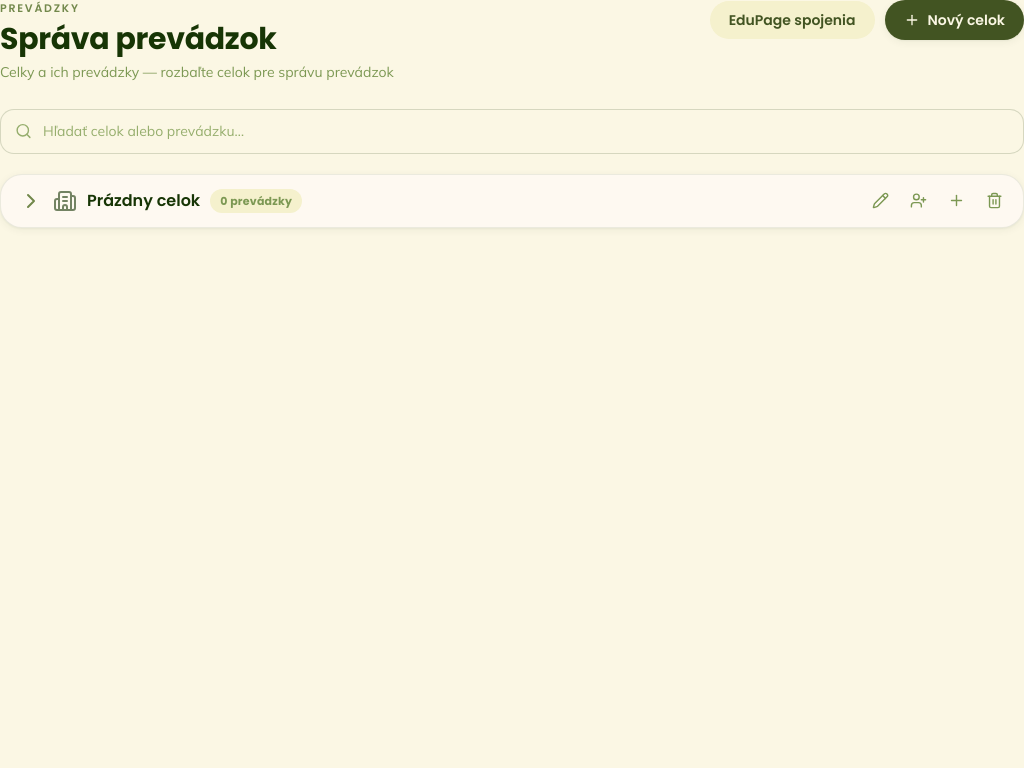
Test: FacilityManager celok delete › deletes a celok without prevádzky after confirmation
Click the button named "Vymazať celok Prázdny celok" at (994, 201), box left=977, top=184, right=1011, bottom=218
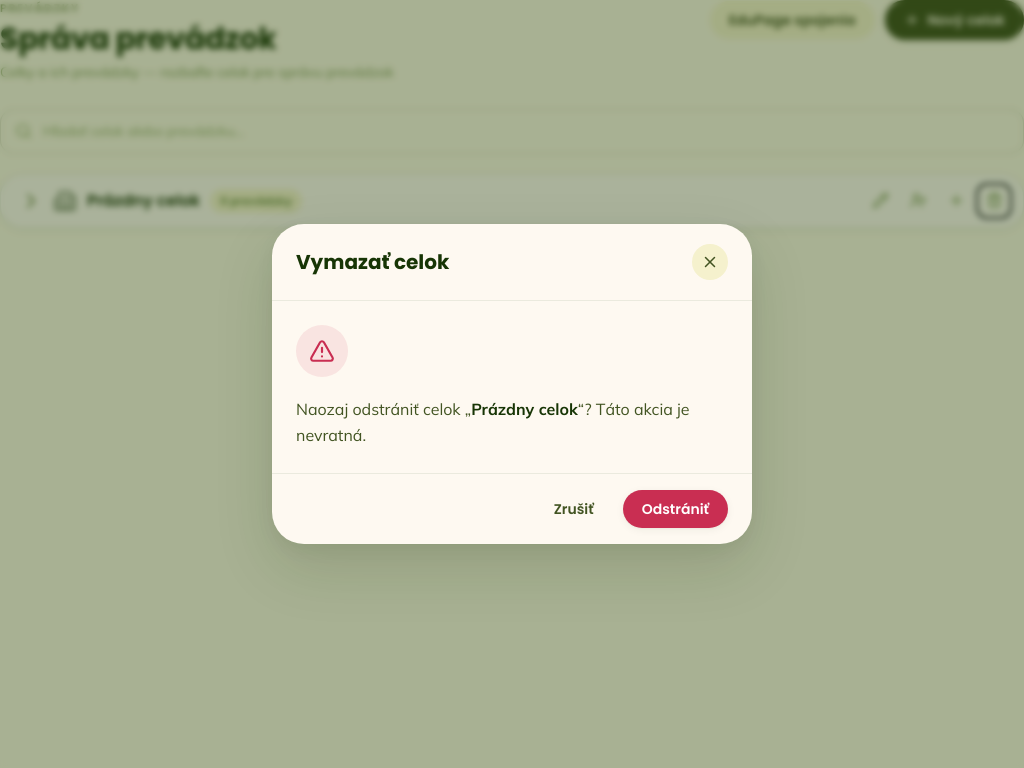
Expected: the text "Naozaj odstrániť celok" shows "Prázdny celok", left=471, top=399, right=578, bottom=419
Click the button "Odstrániť" at (675, 509), box left=623, top=490, right=728, bottom=528
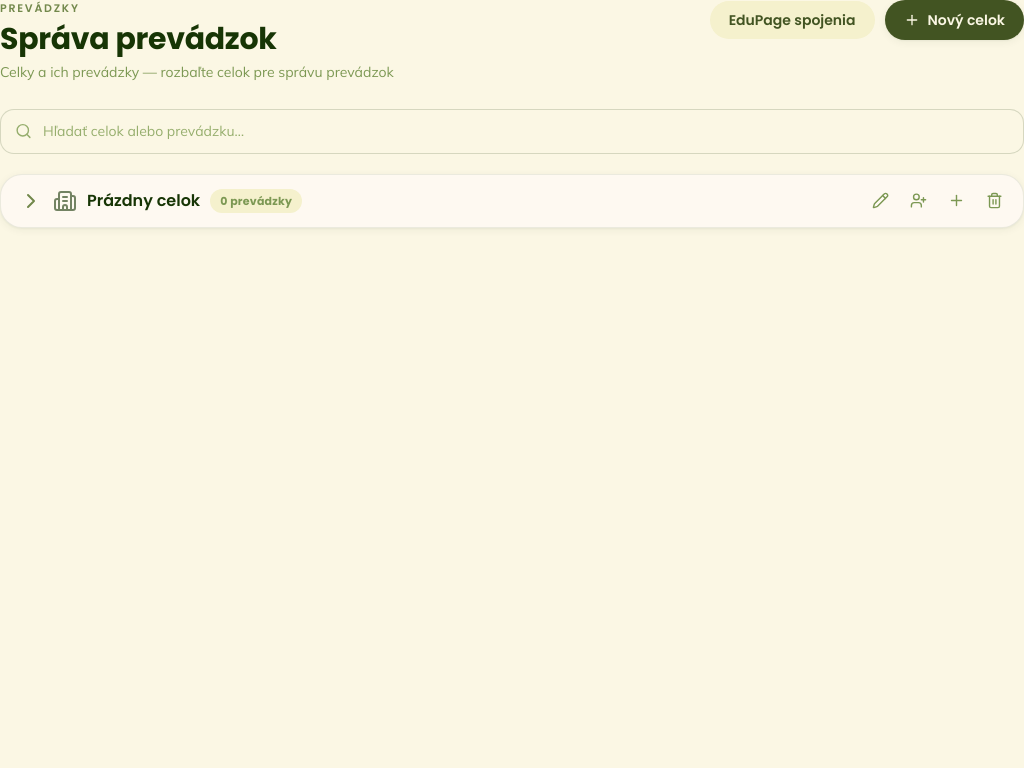
Expected: the text "Naozaj odstrániť celok" is gone
